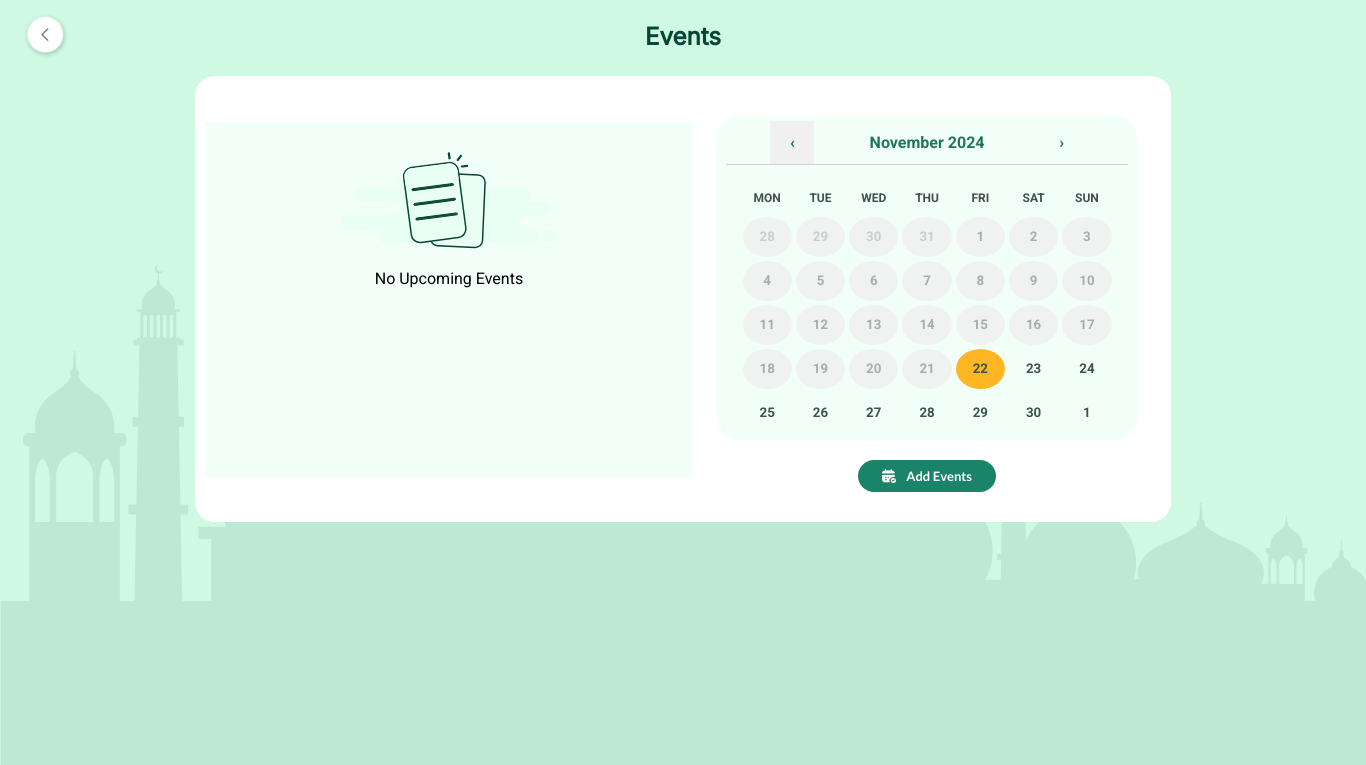
it: EventsViewCalender Component › displays event input when Add Events button is clicked
Click the button "Add Events". click: (927, 476)
box: [858,460,996,492]
(page scrolled)
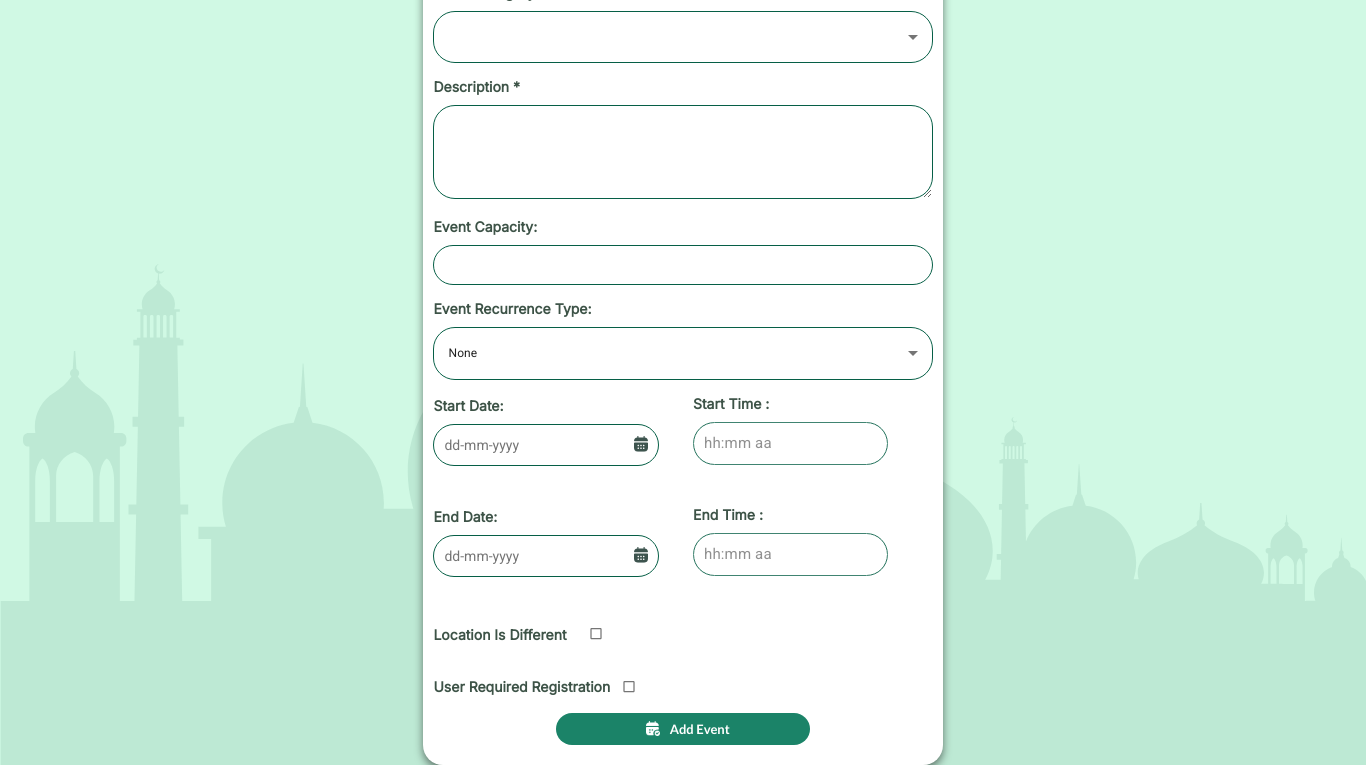
Now the text "Description *" is shown, box [434,78,520,95]
Now the text "Event Recurrence Type:" is shown, box [434,300,592,317]
Now the text "Start Date:" is shown, box [434,396,504,414]
